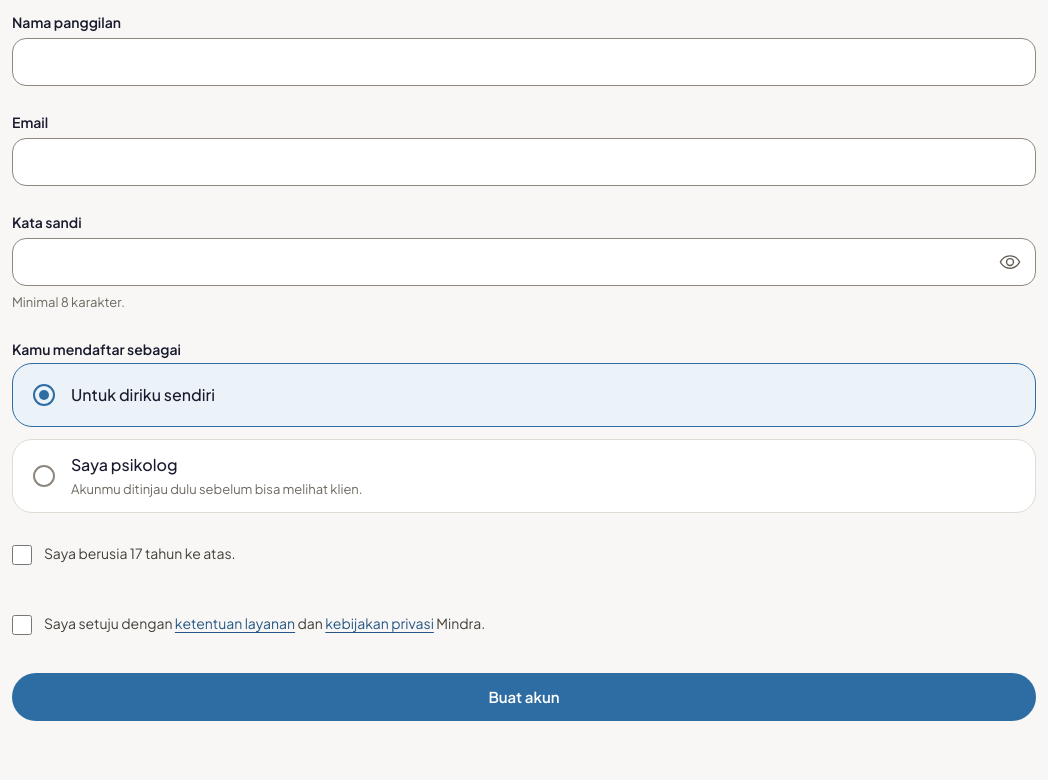
Test: RegisterForm: nomor STR untuk calon psikolog › pilihan jenis akun tetap satu: memilih psikolog melepas pilihan diri sendiri
The image size is (1048, 780).
Click the radio button labelled "Saya psikolog": (124, 464) [12,439,1036,513]
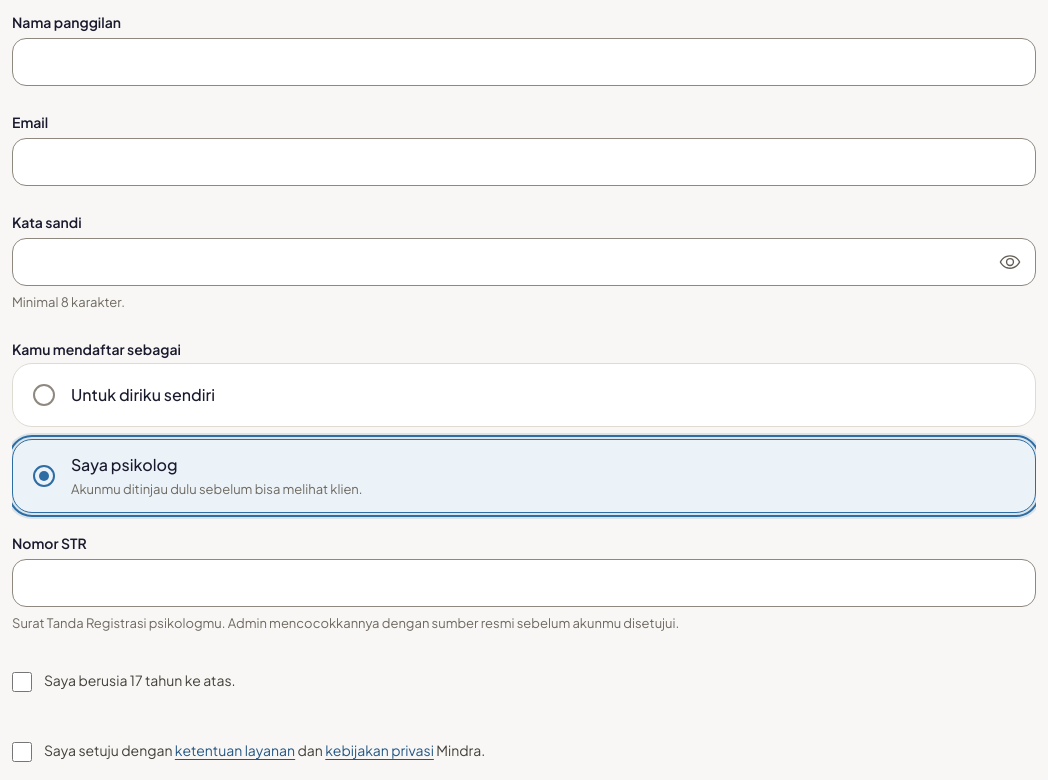
Check: the radio button labelled "Saya psikolog" is checked, box [12,439,1036,513]
Check: the radio button labelled "Untuk diriku sendiri" is not checked, box [12,363,1036,427]
